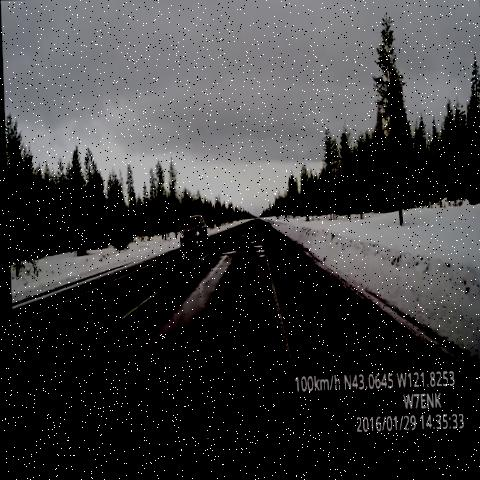pothole: (247, 239, 265, 267), (212, 244, 237, 262), (252, 216, 262, 243), (234, 227, 247, 244)
